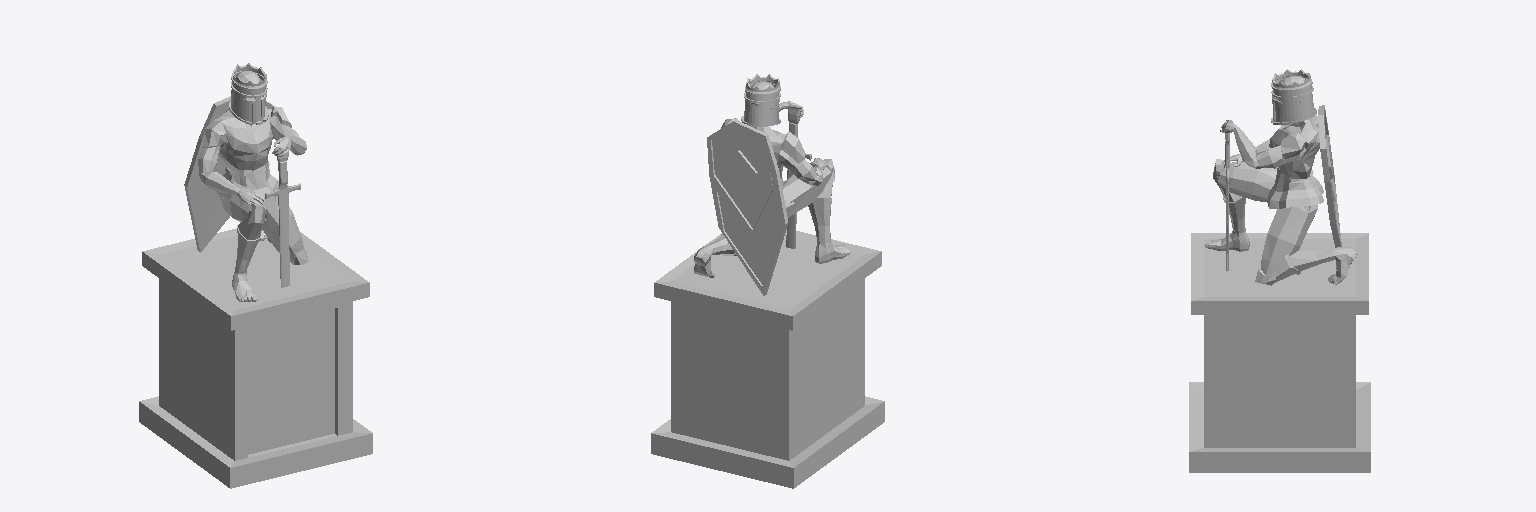
The model's file is Statue.obj.
3 renders of one model, left to right at view 1: azimuth 30°, elevation 25°; view 2: azimuth 150°, elevation 25°; view 3: azimuth 270°, elevation 25°, orthographic.
Parts seen in each view (by area): view 1: Cube, Human_001, shield_001, Circle_005, sword; view 2: Cube, shield_001, Human_001, Circle_005, sword; view 3: Cube, Human_001, Circle_005, shield_001.
Part boxes in pixels (bbox=[...]): Cube: bbox=[139, 228, 372, 488]; Human_001: bbox=[198, 71, 308, 301]; shield_001: bbox=[184, 96, 273, 252]; Circle_005: bbox=[229, 63, 268, 124]; sword: bbox=[265, 149, 300, 287]; Cube: bbox=[651, 230, 884, 488]; shield_001: bbox=[707, 120, 787, 295]; Human_001: bbox=[694, 81, 850, 277]; Circle_005: bbox=[741, 74, 780, 126]; sword: bbox=[786, 108, 811, 248]; Cube: bbox=[1189, 233, 1370, 472]; Human_001: bbox=[1204, 76, 1356, 285]; Circle_005: bbox=[1271, 69, 1316, 124]; shield_001: bbox=[1318, 105, 1341, 247].
Size of the model in its own units: 18 by 43.87 by 19.97.